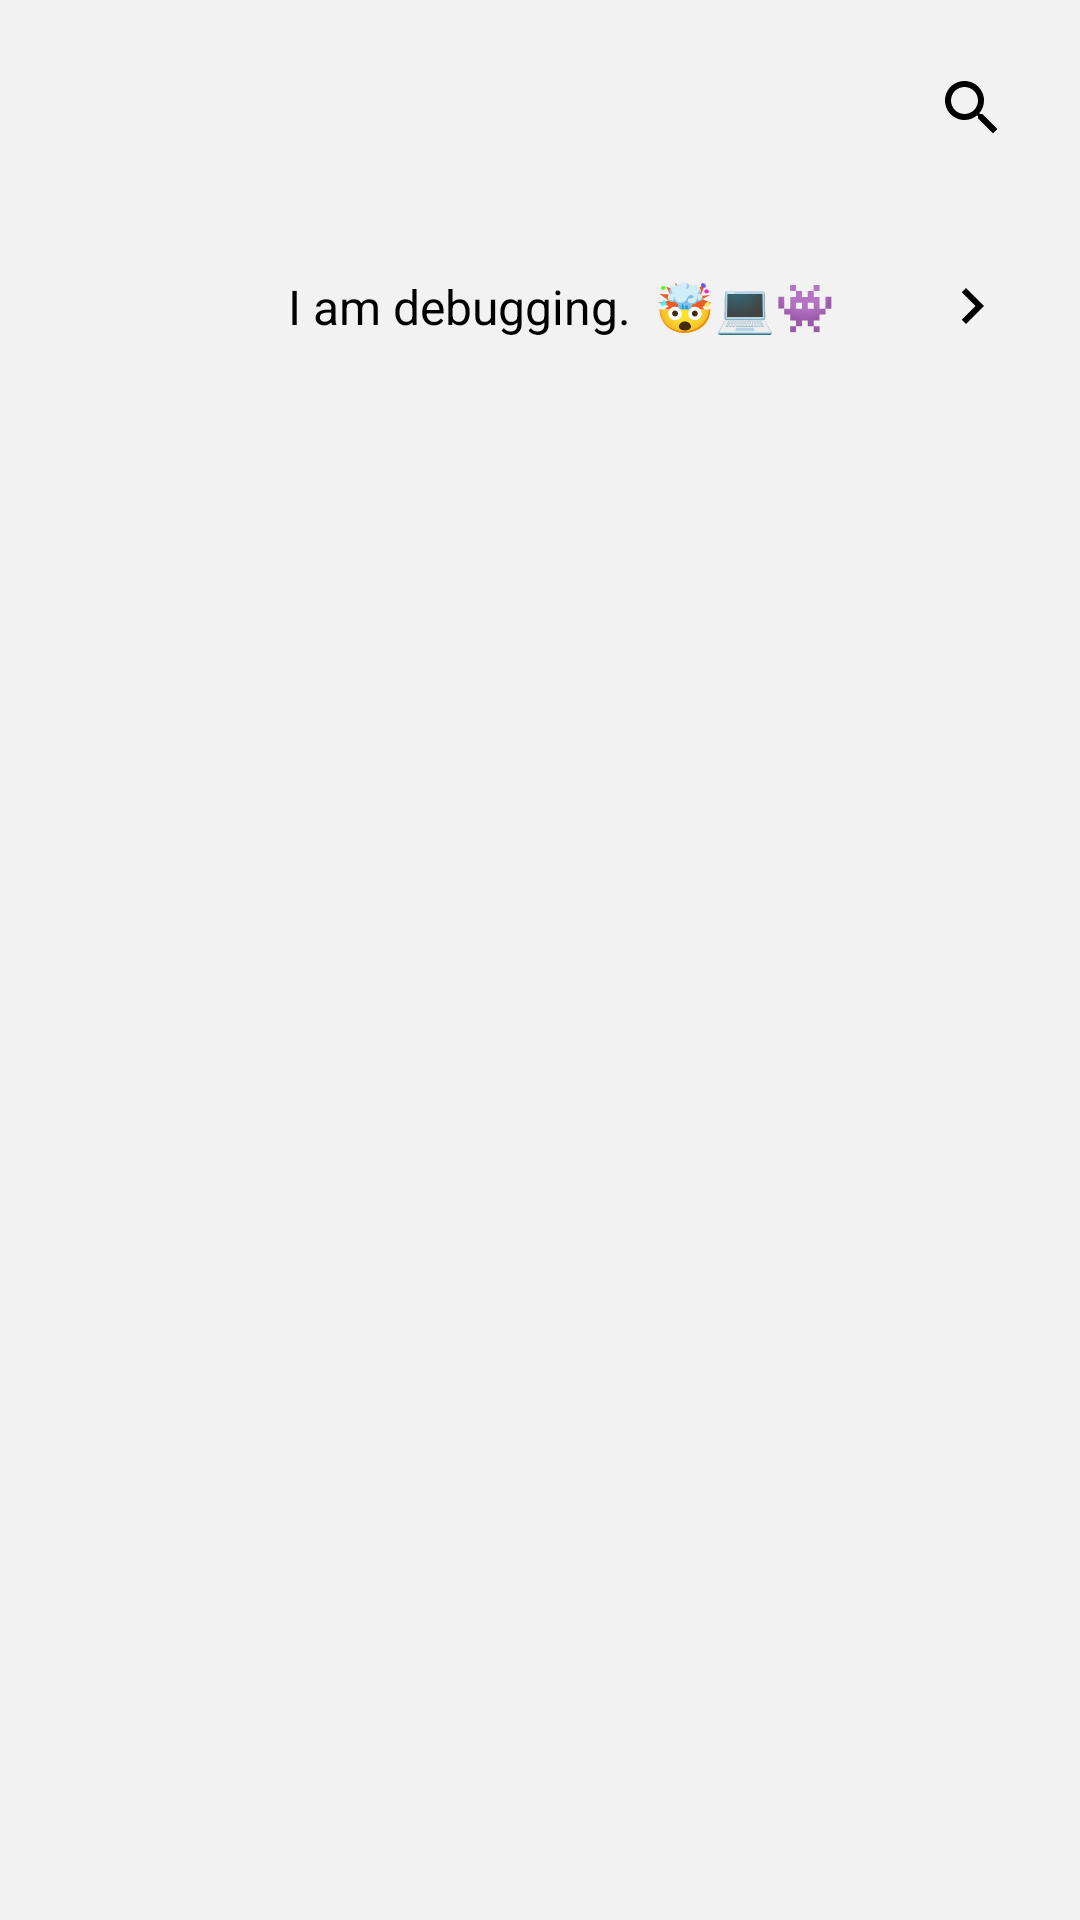

Screen size 1080×1920. Icon name, then its center in pixels as (x=x, y=y):
navigate next: (x=973, y=306)
search: (x=971, y=107)
